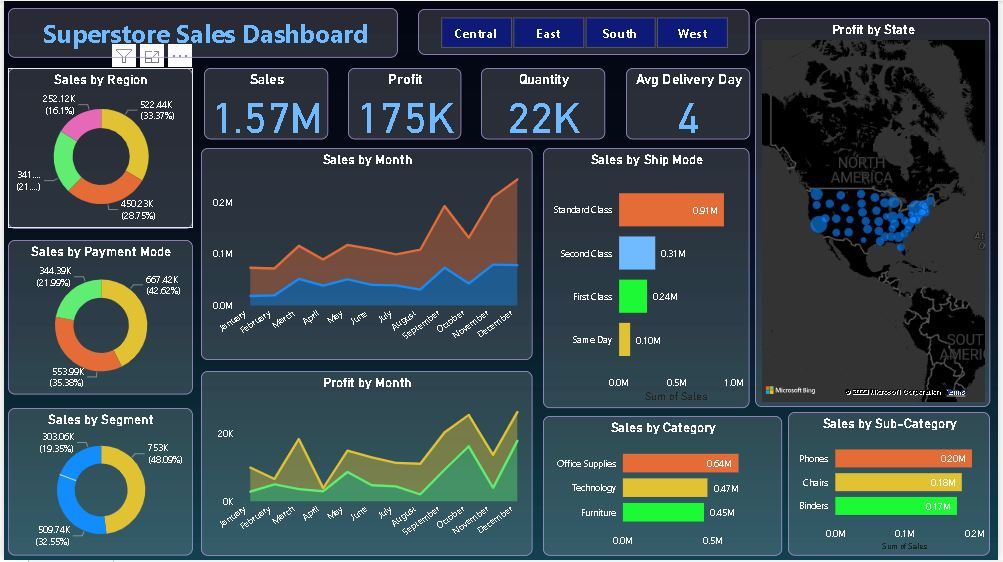

The page's visual inventory and layout, read from the dashboard file:
{"tool":"powerbi","page":{"name":"Dashboard","canvas":[1280,720],"ordinal":0},"visuals":[{"type":"card","title":"Sales","fields":{"Values":["Sum(SuperStore_Sales_Dataset.Sales)"]},"box":[257.4,86.3,159.8,91.9],"z":0},{"type":"barChart","title":"Sales by Category","fields":{"Category":["SuperStore_Sales_Dataset.Category"],"Y":["Sum(SuperStore_Sales_Dataset.Sales)"]},"box":[694.5,534.7,308.4,179.6],"z":1000},{"type":"barChart","title":"Sales by Sub-Category","fields":{"Y":["Sum(SuperStore_Sales_Dataset.Sales)"],"Category":["SuperStore_Sales_Dataset.Sub-Category"]},"box":[1010,529,260.3,185.3],"z":2000},{"type":"barChart","title":"Sales by Ship Mode","fields":{"Y":["Sum(SuperStore_Sales_Dataset.Sales)"],"Category":["SuperStore_Sales_Dataset.Ship Mode"]},"box":[694.5,189.5,265.9,335.2],"z":3000},{"type":"stackedAreaChart","title":"Sales by Month","fields":{"Category":["SuperStore_Sales_Dataset.Order Date.Variation.Date Hierarchy.Month","SuperStore_Sales_Dataset.Order Date.Variation.Date Hierarchy.Day"],"Y":["Sum(SuperStore_Sales_Dataset.Sales)"],"Series":["SuperStore_Sales_Dataset.Order Date.Variation.Date Hierarchy.Year"]},"box":[253.2,189.5,427.2,273],"z":4000},{"type":"stackedAreaChart","title":"Profit by Month","fields":{"Category":["SuperStore_Sales_Dataset.Order Date.Variation.Date Hierarchy.Month","SuperStore_Sales_Dataset.Order Date.Variation.Date Hierarchy.Day"],"Series":["SuperStore_Sales_Dataset.Order Date.Variation.Date Hierarchy.Year"],"Y":["Sum(SuperStore_Sales_Dataset.Profit)"]},"box":[253.2,476.7,427.2,237.6],"z":5000},{"type":"map","title":"Profit by State","fields":{"Category":["SuperStore_Sales_Dataset.State"],"Size":["Sum(SuperStore_Sales_Dataset.Profit)"]},"box":[967.3,21.9,302.7,501],"z":6000},{"type":"donutChart","title":"Sales by Segment","fields":{"Category":["SuperStore_Sales_Dataset.Segment"],"Y":["Sum(SuperStore_Sales_Dataset.Sales)"]},"box":[5.7,524.8,237.6,189.5],"z":7000},{"type":"donutChart","title":"Sales by Payment Mode","fields":{"Y":["Sum(SuperStore_Sales_Dataset.Sales)"],"Category":["SuperStore_Sales_Dataset.Payment Mode"]},"box":[5.7,308.4,237.6,199.4],"z":8000},{"type":"donutChart","title":"Sales by Region","fields":{"Y":["Sum(SuperStore_Sales_Dataset.Sales)"],"Category":["SuperStore_Sales_Dataset.Region"]},"box":[5.7,86.3,237.6,206.5],"z":9000},{"type":"slicer","fields":{"Values":["SuperStore_Sales_Dataset.Region"]},"box":[533.3,9.9,427.2,59.4],"z":10000},{"type":"textbox","box":[5.7,8.5,502.2,63.7],"z":11000},{"type":"card","title":"Profit","fields":{"Values":["Sum(SuperStore_Sales_Dataset.Profit)"]},"box":[443.2,86.3,145.7,91.9],"z":12000},{"type":"card","title":"Quantity","fields":{"Values":["Sum(SuperStore_Sales_Dataset.Quantity)"]},"box":[614.9,86.3,159.8,91.9],"z":13000},{"type":"card","title":"Avg Delivery Day","fields":{"Values":["Avg(SuperStore_Sales_Dataset.AvgDeliveryTime)"]},"box":[800.6,86.3,159.8,91.9],"z":14000}]}

Visuals, with their boxes in screenshot pixels (x1, y1, x2, y2), scaled from the page's 1280x720 canvas onto the 1003x562 screenshot:
"Sales" card: 202, 67, 327, 139
"Sales by Category" barChart: 544, 417, 786, 558
"Sales by Sub-Category" barChart: 791, 413, 995, 558
"Sales by Ship Mode" barChart: 544, 148, 753, 410
"Sales by Month" stackedAreaChart: 198, 148, 533, 361
"Profit by Month" stackedAreaChart: 198, 372, 533, 558
"Profit by State" map: 758, 17, 995, 408
"Sales by Segment" donutChart: 4, 410, 191, 558
"Sales by Payment Mode" donutChart: 4, 241, 191, 396
"Sales by Region" donutChart: 4, 67, 191, 229
slicer - SuperStore_Sales_Dataset.Region: 418, 8, 753, 54
textbox: 4, 7, 398, 56
"Profit" card: 347, 67, 461, 139
"Quantity" card: 482, 67, 607, 139
"Avg Delivery Day" card: 627, 67, 753, 139
